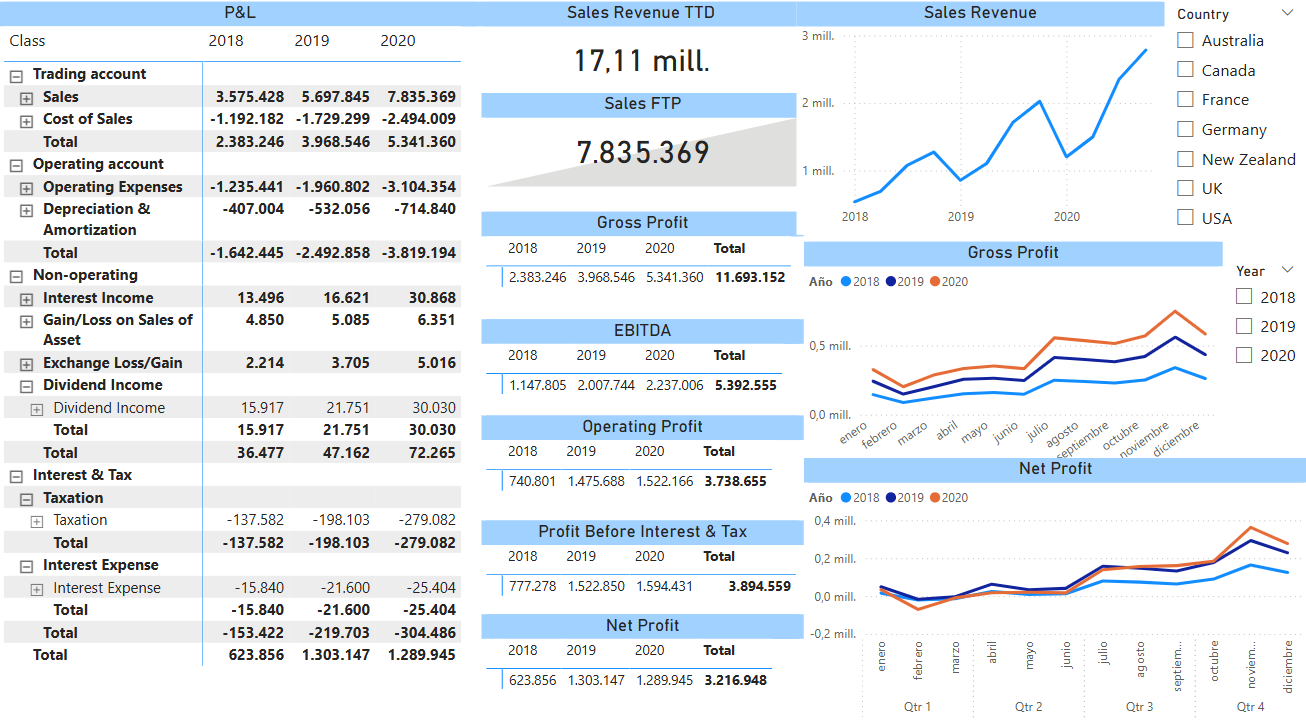

The dashboard page shown, as its layout file describes it:
{"tool":"powerbi","page":{"name":"P&L","canvas":[1280,720],"ordinal":1},"visuals":[{"type":"pivotTable","title":"Sales Revenue","fields":{"Columns":["tbl_Calendar.Year","tbl_Calendar.Quarter","tbl_Calendar.Month"],"Rows":["tbl_COA.Class","tbl_COA.SubClass","tbl_COA.SubClass2","tbl_COA.Account"],"Values":["Fact_tbl_GL_.Total_FTP"]},"box":[0,7.5,472.5,712.5],"z":0},{"type":"slicer","fields":{"Values":["tbl_territory.Country"]},"box":[1140,7.5,140,250],"z":1000},{"type":"pivotTable","title":"Gross Profit","fields":{"Columns":["tbl_Calendar.Year"],"Values":["Fact_tbl_GL_.GrossProfit"]},"box":[472,214,315.5,85.6],"z":2000},{"type":"pivotTable","title":"Operating  Profit","fields":{"Columns":["tbl_Calendar.Year"],"Values":["Fact_tbl_GL_.Operating_Profiy"]},"box":[472,413.3,315.5,83.2],"z":3000},{"type":"pivotTable","title":"Profit Before Interest & Tax","fields":{"Columns":["tbl_Calendar.Year"],"Values":["Fact_tbl_GL_.PBIT"]},"box":[472,516,315.5,83.2],"z":4000},{"type":"pivotTable","title":"Net Profit ","fields":{"Columns":["tbl_Calendar.Year"],"Values":["Fact_tbl_GL_.Net_Profit"]},"box":[472,607.7,315.5,81.9],"z":5000},{"type":"pivotTable","title":"EBITDA","fields":{"Columns":["tbl_Calendar.Year"],"Values":["Fact_tbl_GL_.EBITDA"]},"box":[472,319.2,315.5,81.9],"z":6000},{"type":"card","title":"Sales Revenue TTD","fields":{"Values":["Fact_tbl_GL_.Total_FTP"]},"box":[470,8.3,316.7,91.7],"z":7000},{"type":"kpi","title":"Sales FTP","fields":{"TrendLine":["tbl_Calendar.Date.Variación.Jerarquía de fechas.Año"],"Indicator":["Fact_tbl_GL_.Total_FTP"]},"box":[472,97.8,315.5,96.6],"z":8000},{"type":"slicer","fields":{"Values":["tbl_Calendar.Year"]},"box":[1197.5,257.5,82.5,171.2],"z":9000},{"type":"lineChart","title":"Sales Revenue","fields":{"Category":["tbl_Calendar.Date.Variación.Jerarquía de fechas.Año","tbl_Calendar.Date.Variación.Jerarquía de fechas.Trimestre","tbl_Calendar.Date.Variación.Jerarquía de fechas.Mes","tbl_Calendar.Date.Variación.Jerarquía de fechas.Día"],"Y":["Sum(Fact_tbl_GL_.Amount)"]},"box":[780,8.3,360,228.3],"z":10000},{"type":"lineChart","title":"Gross Profit ","fields":{"Y":["Sum(Fact_tbl_GL_.Amount)"],"Category":["tbl_Calendar.Date.Variación.Jerarquía de fechas.Año","tbl_Calendar.Date.Variación.Jerarquía de fechas.Trimestre","tbl_Calendar.Date.Variación.Jerarquía de fechas.Mes","tbl_Calendar.Date.Variación.Jerarquía de fechas.Día"],"Series":["tbl_Calendar.Date.Variación.Jerarquía de fechas.Año"]},"box":[787.5,243.3,409.6,232.3],"z":11000},{"type":"lineChart","title":"Net Profit ","fields":{"Category":["tbl_Calendar.Date.Variación.Jerarquía de fechas.Trimestre","tbl_Calendar.Date.Variación.Jerarquía de fechas.Mes","tbl_Calendar.Date.Variación.Jerarquía de fechas.Día"],"Y":["Sum(Fact_tbl_GL_.Amount)"],"Series":["tbl_Calendar.Date.Variación.Jerarquía de fechas.Año"]},"box":[787.5,454.9,492.8,265.4],"z":12000}]}

Visuals, with their boxes in screenshot pixels (x1, y1, x2, y2), scaled from the page's 1280x720 canvas onto the 1306x722 screenshot:
"Sales Revenue" pivotTable: left=0, top=8, right=482, bottom=721
slicer - tbl_territory.Country: left=1163, top=8, right=1305, bottom=258
"Gross Profit" pivotTable: left=482, top=215, right=803, bottom=300
"Operating  Profit" pivotTable: left=482, top=414, right=803, bottom=498
"Profit Before Interest & Tax" pivotTable: left=482, top=517, right=803, bottom=601
"Net Profit " pivotTable: left=482, top=609, right=803, bottom=692
"EBITDA" pivotTable: left=482, top=320, right=803, bottom=402
"Sales Revenue TTD" card: left=480, top=8, right=803, bottom=100
"Sales FTP" kpi: left=482, top=98, right=803, bottom=195
slicer - tbl_Calendar.Year: left=1222, top=258, right=1305, bottom=430
"Sales Revenue" lineChart: left=796, top=8, right=1163, bottom=237
"Gross Profit " lineChart: left=803, top=244, right=1221, bottom=477
"Net Profit " lineChart: left=803, top=456, right=1305, bottom=721
